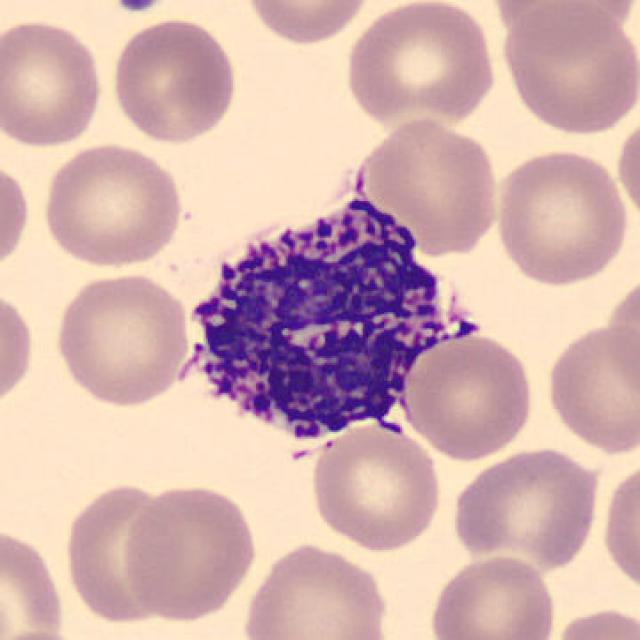Basophil: (163, 182, 492, 476)
Platelets: (110, 0, 169, 16)
RBC: (341, 0, 501, 130), (356, 114, 502, 256), (119, 480, 261, 624), (50, 268, 194, 409), (448, 443, 606, 571), (491, 145, 631, 289), (37, 139, 187, 270), (496, 2, 638, 138), (58, 478, 188, 626), (306, 418, 446, 554), (398, 330, 539, 462), (108, 14, 240, 146), (238, 539, 392, 640), (0, 14, 107, 150), (540, 319, 638, 457), (427, 552, 560, 640), (0, 522, 69, 640), (487, 0, 640, 51), (237, 0, 375, 48), (598, 455, 638, 599), (0, 284, 37, 416), (0, 155, 34, 279), (548, 603, 638, 640), (613, 110, 640, 230), (0, 626, 101, 640)
